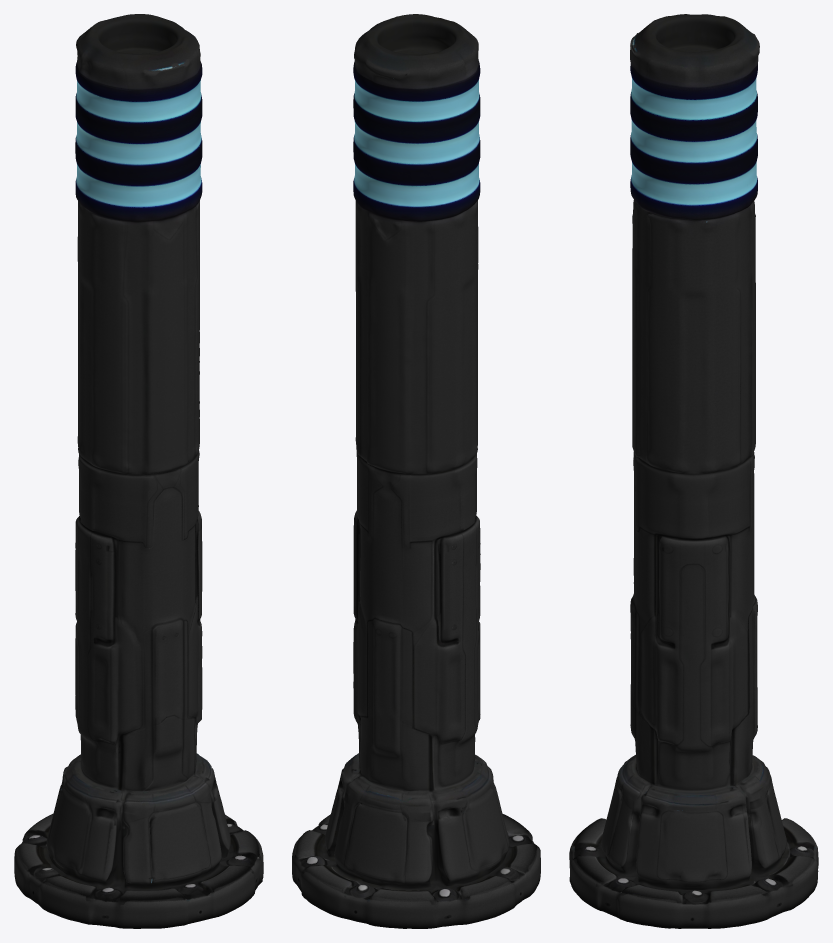
The model's file is 차량유도봉_3.fbx.
3 renders of one model, left to right at view 1: azimuth 30°, elevation 25°; view 2: azimuth 150°, elevation 25°; view 3: azimuth 270°, elevation 25°, orthographic.
Parts seen in each view (by area): view 1: tripo_node_04d509fb; view 2: tripo_node_04d509fb; view 3: tripo_node_04d509fb.
Part boxes in pixels (x1,y1,x2,y2): tripo_node_04d509fb: (14,14,263,928); tripo_node_04d509fb: (292,14,540,928); tripo_node_04d509fb: (569,14,818,928).
Size of the model in its own units: 25.94 by 98.28 by 26.23.
Materials: 1 (1 with a texture image).
